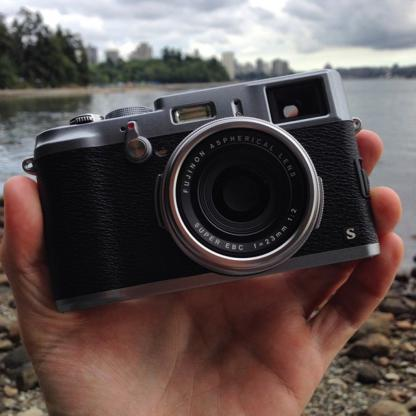Camera: (23, 69, 384, 318)
